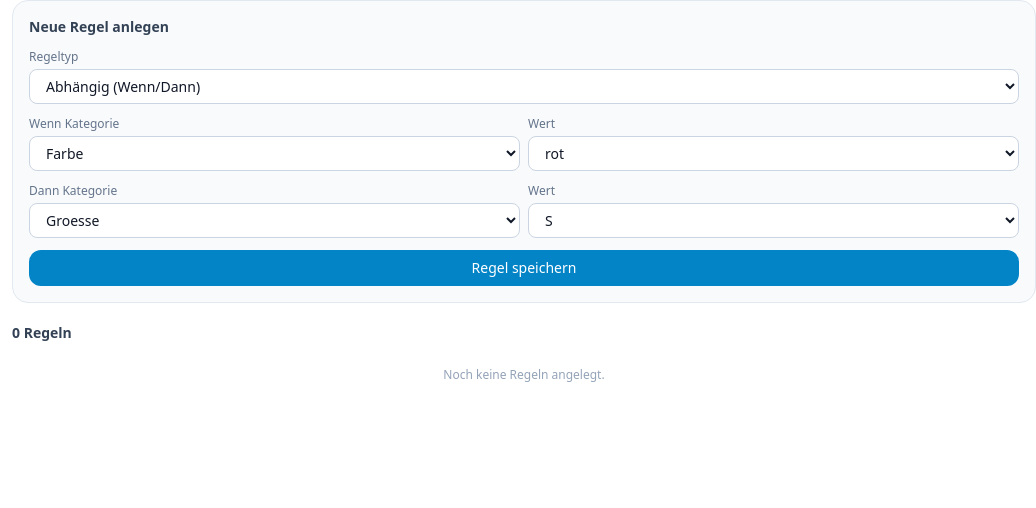
Test: RulesPanel - REQ-3004 Regelwiderspruch-Erkennung › zeigt beim Speichern eine Konflikt-Warnung mit Regelnummer und hebt die Regel in der Anzeige hervor
The width and height of the screenshot is (1036, 508).
expect the heading "Neue Regel anlegen" is shown: met, box [29,17,169,36]
Click the button "Regel speichern" at (524, 268), box [29,250,1019,286]
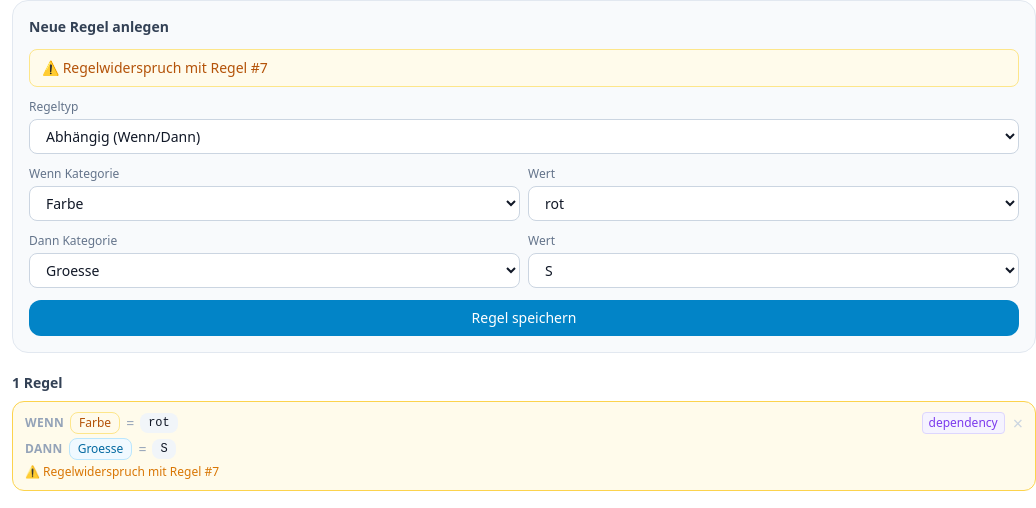
expect the list item "rot" is shown: met, box [148,416,170,430]
expect the heading "1 Regel" is shown: met, box [12,373,63,392]
